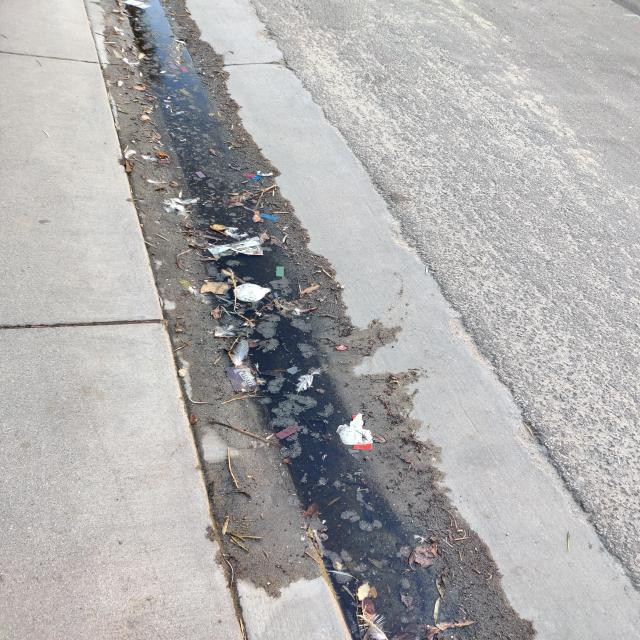litter: (104, 99, 488, 363)
